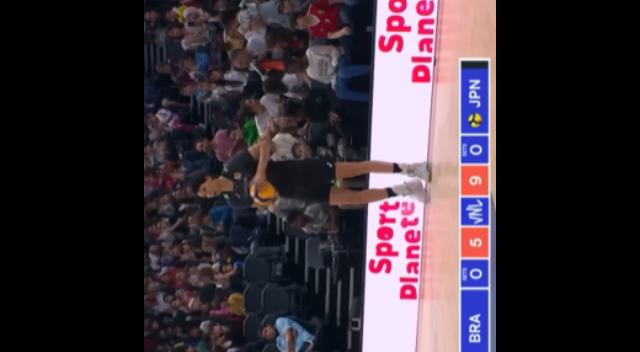bola: (243, 174, 281, 208)
